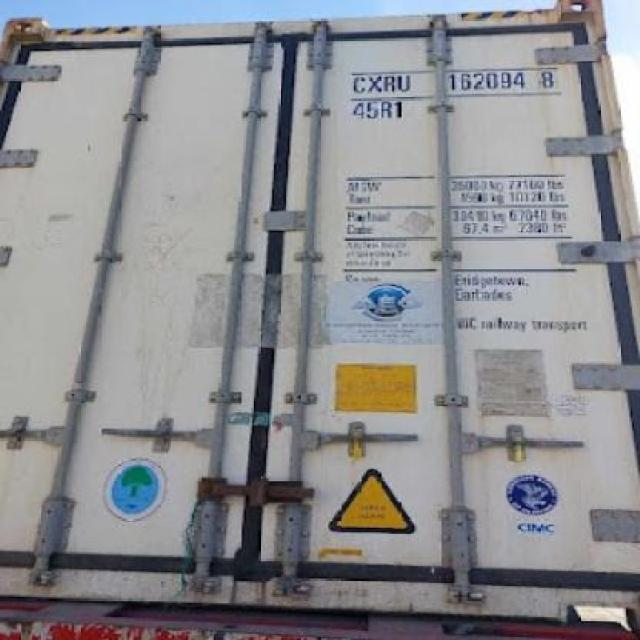ISO: (351, 100, 406, 124)
container_number: (345, 70, 550, 94)
